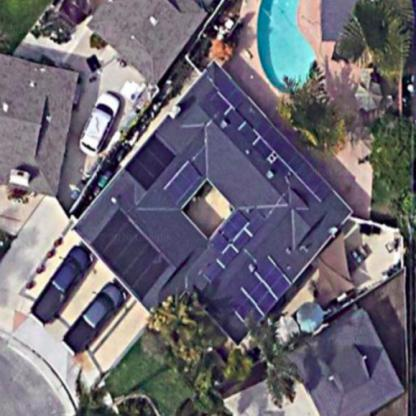car: (62, 279, 153, 359), (22, 244, 107, 327), (70, 82, 122, 158)
solar_panel: (192, 76, 349, 207), (84, 203, 176, 302), (185, 204, 278, 283), (124, 124, 207, 209), (230, 256, 308, 326)
swimming_pool: (238, 1, 330, 101)
